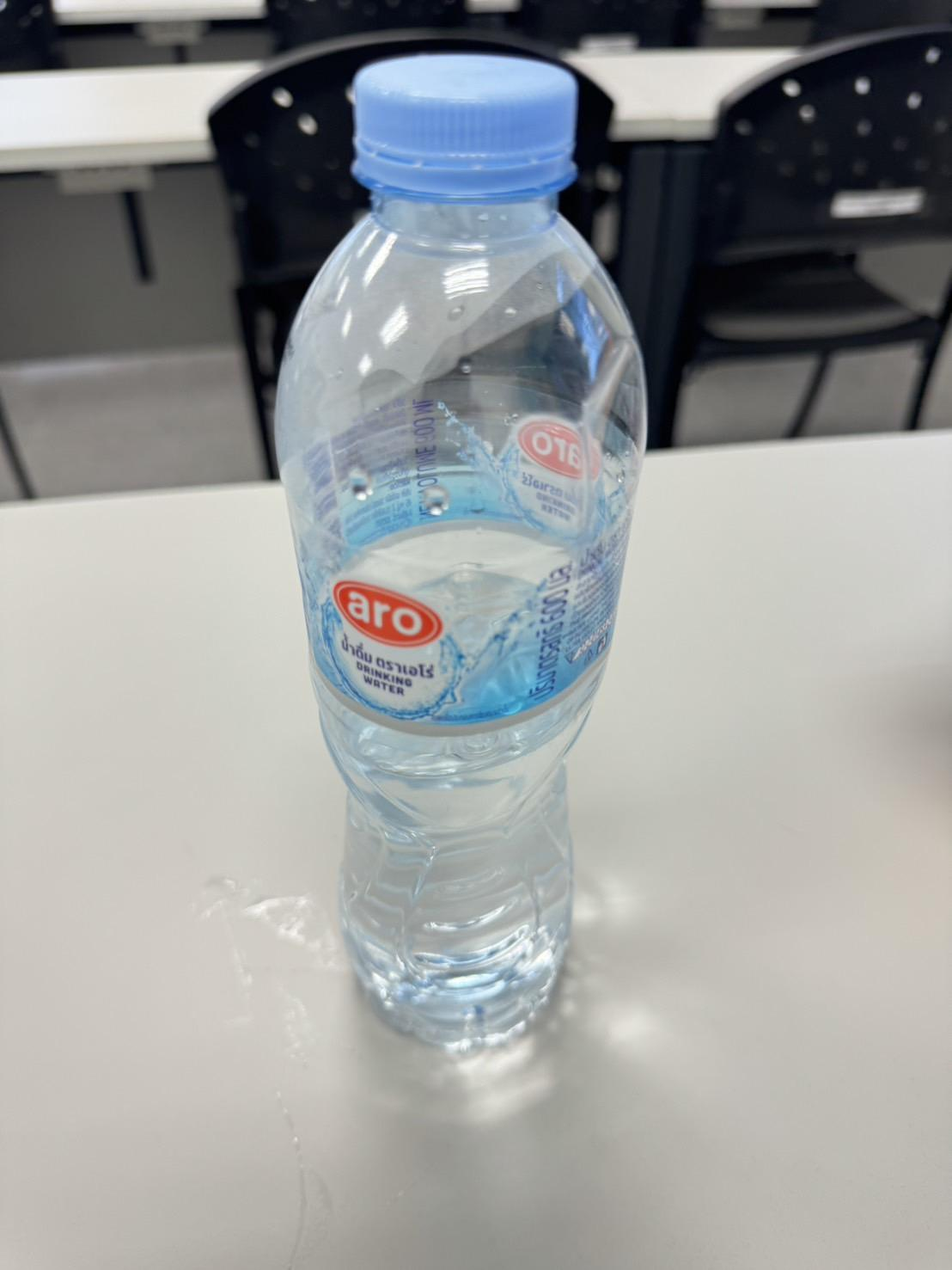Bottle: (275, 53, 645, 1047)
